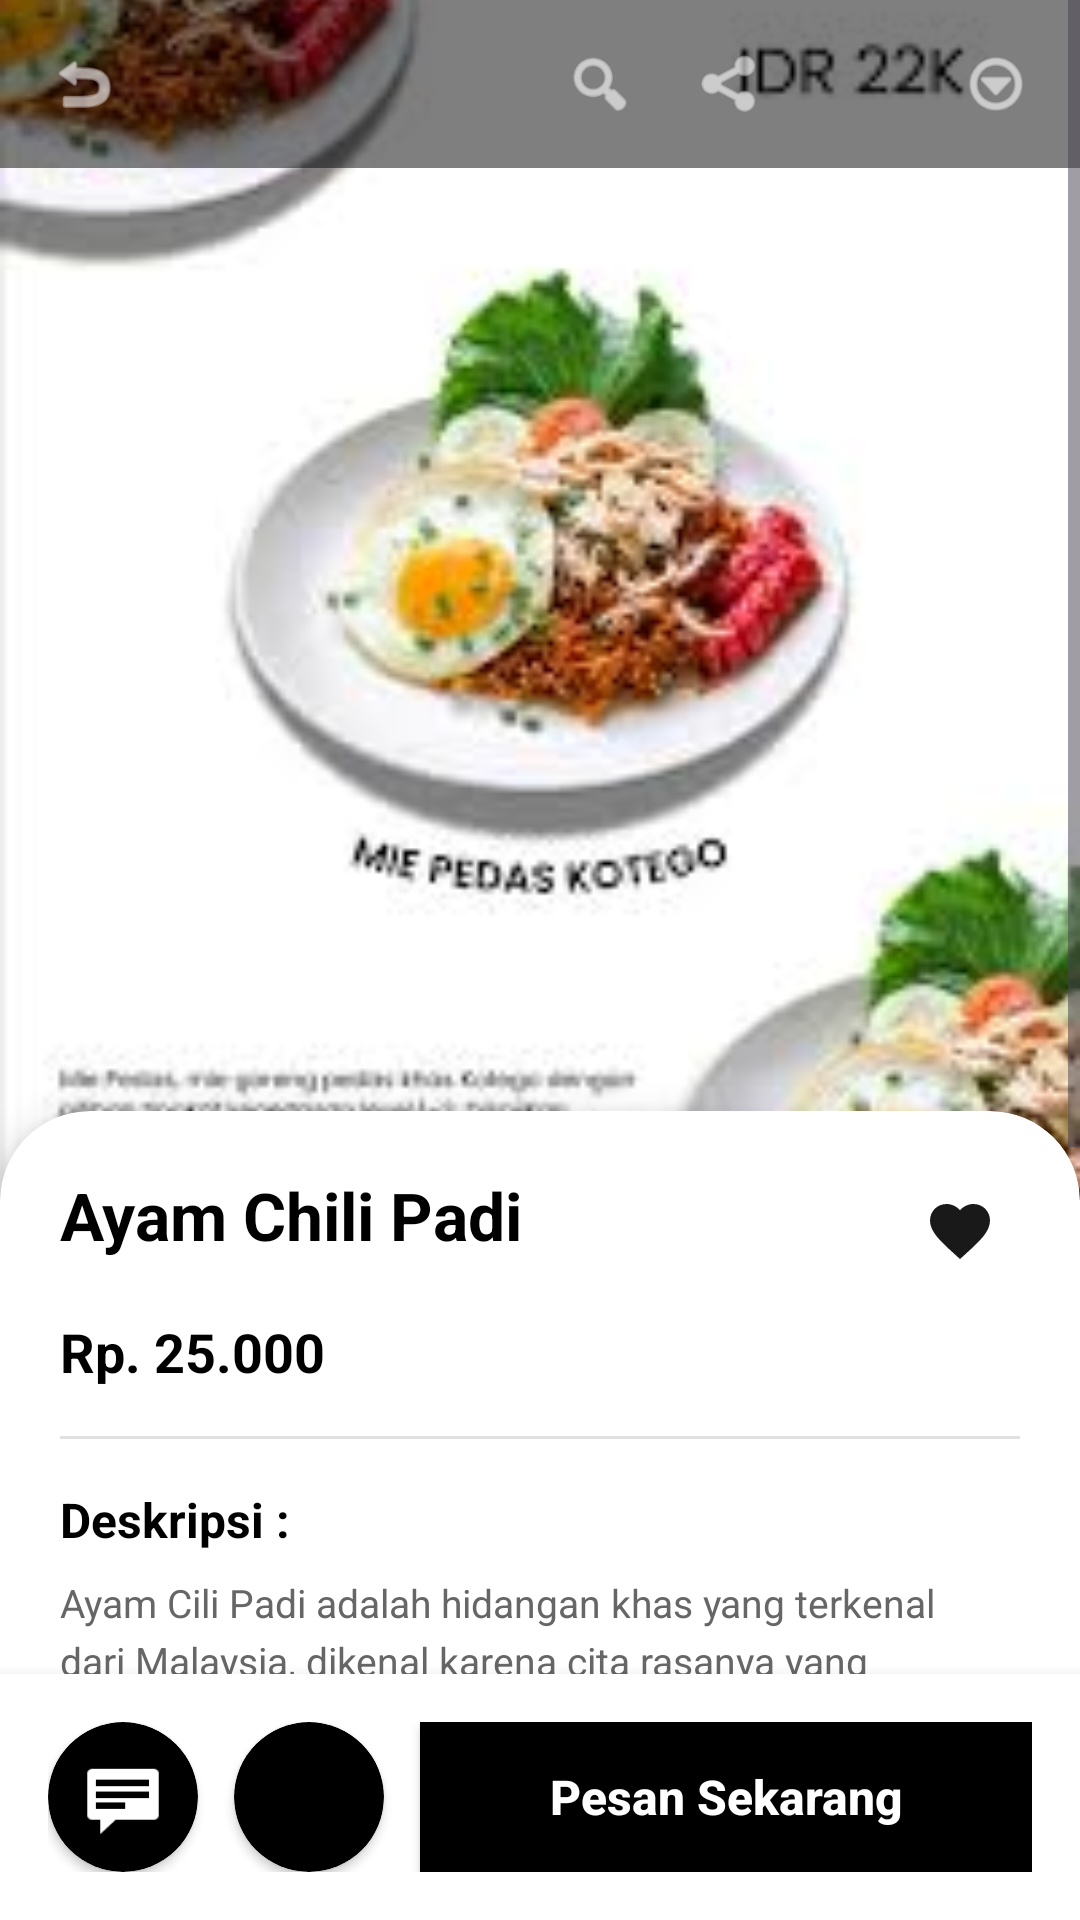

Named icons in this screenshot (1080 x 1920) and their centers, (x=x, y=y):
chat: (x=123, y=1797)
more: (x=996, y=84)
revert: (x=84, y=84)
search: (x=600, y=84)
share: (x=728, y=79)
